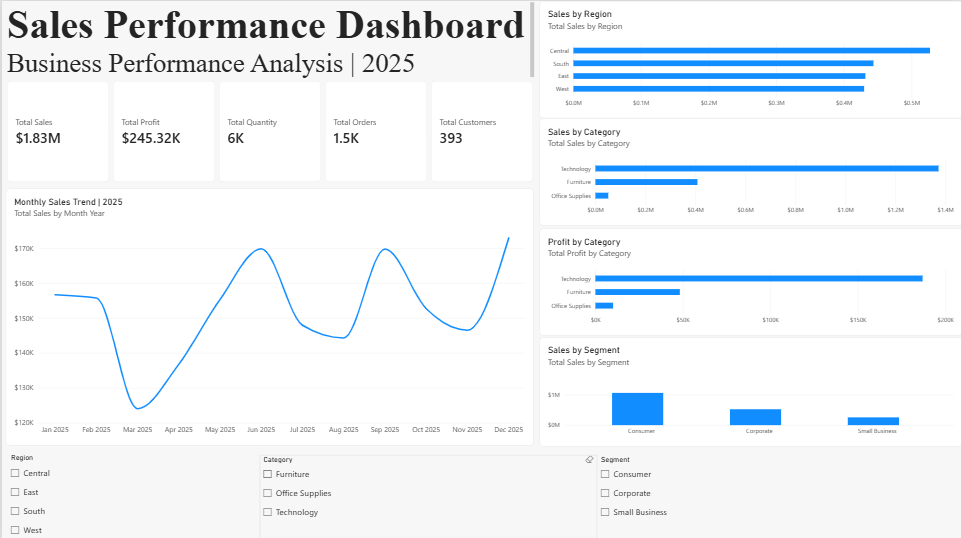

The dashboard page shown, as its layout file describes it:
{"tool":"powerbi","page":{"name":"Sales Performance Dashboard","canvas":[1920,1080],"ordinal":0},"visuals":[{"type":"textbox","box":[10,2,1054,160],"z":0},{"type":"lineChart","title":"Monthly Sales Trend | 2025","fields":{"Category":["DateTable.Month Year"],"Y":["Sales.Total Sales"]},"box":[8,376,1056,514],"z":1000},{"type":"cardVisual","fields":{"Data":["Sales.Total Sales","Sales.Total Profit","Sales.Total Quantity","Sales.Total Orders","Sales.Total Customers"]},"box":[10,160,1054,202],"z":2000},{"type":"clusteredBarChart","title":"Sales by Region","fields":{"Category":["Sales.Region"],"Y":["Sales.Total Sales"]},"box":[1074,0,846,234],"z":3000},{"type":"clusteredBarChart","title":"Sales by Category","fields":{"Category":["Sales.Category"],"Y":["Sales.Total Sales"]},"box":[1074,236,846,214],"z":4000},{"type":"clusteredBarChart","title":"Profit by Category","fields":{"Category":["Sales.Category"],"Y":["Sales.Total Profit"]},"box":[1074,454,846,214],"z":5000},{"type":"clusteredColumnChart","title":"Sales by Segment","fields":{"Category":["Sales.Segment"],"Y":["Sales.Total Sales"]},"box":[1074,672,846,218],"z":6000},{"type":"slicer","fields":{"Values":["Sales.Region"]},"box":[10,904,504,176],"z":7000},{"type":"slicer","fields":{"Values":["Sales.Category"]},"box":[514,908,676,166],"z":8000},{"type":"slicer","fields":{"Values":["Sales.Segment"]},"box":[1190,908,730,166],"z":9000}]}

Visuals, with their boxes in screenshot pixels (x1, y1, x2, y2), scaled from the page's 1920x1080 canvas onto the 961x538 screenshot:
textbox: [5, 1, 533, 81]
"Monthly Sales Trend | 2025" lineChart: [4, 187, 533, 443]
cardVisual - Sales.Total Sales x Sales.Total Profit: [5, 80, 533, 180]
"Sales by Region" clusteredBarChart: [538, 0, 960, 117]
"Sales by Category" clusteredBarChart: [538, 118, 960, 224]
"Profit by Category" clusteredBarChart: [538, 226, 960, 333]
"Sales by Segment" clusteredColumnChart: [538, 335, 960, 443]
slicer - Sales.Region: [5, 450, 257, 537]
slicer - Sales.Category: [257, 452, 596, 535]
slicer - Sales.Segment: [596, 452, 960, 535]
